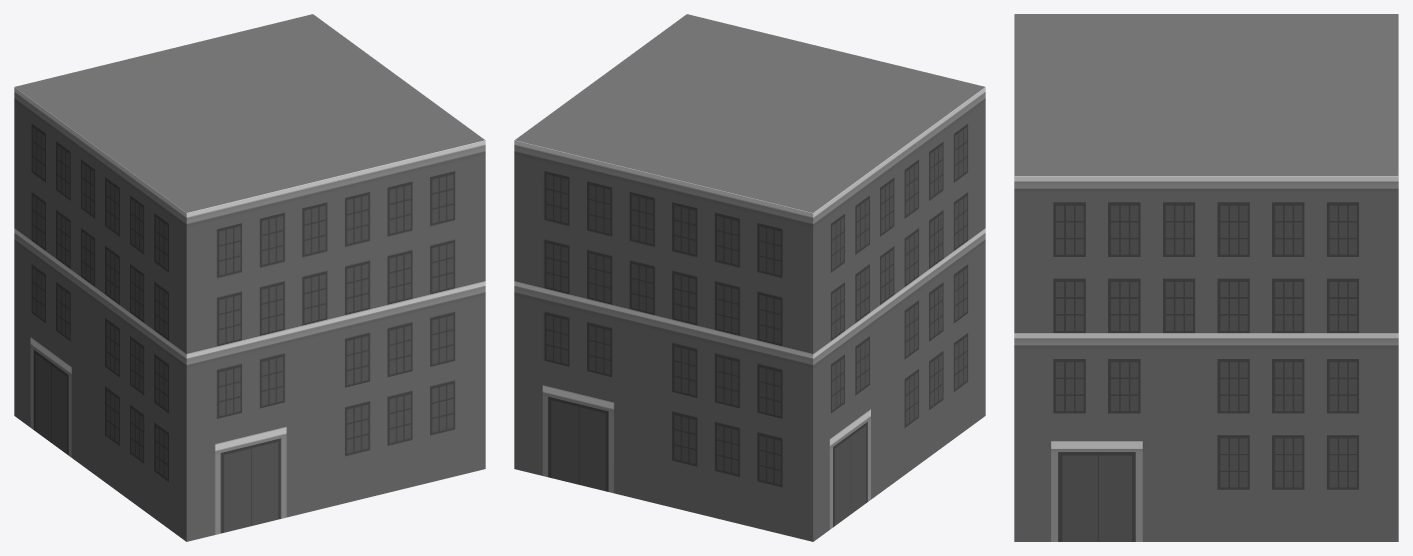
Rendered from BuildingMedium.fbx.
3 renders of one model, left to right at view 1: azimuth 30°, elevation 25°; view 2: azimuth 150°, elevation 25°; view 3: azimuth 270°, elevation 25°, orthographic. The views are drawn at different scales.
Parts seen in each view (by area): view 1: BuildingMedium; view 2: BuildingMedium; view 3: BuildingMedium.
Boxes of the visible parts, bbox=[...] form: BuildingMedium: bbox=[14, 14, 485, 541]; BuildingMedium: bbox=[514, 14, 985, 541]; BuildingMedium: bbox=[1014, 14, 1398, 541].
Bounding box in the file's own units: 10.01 × 10.51 × 10.
1 material, 1 textured.
